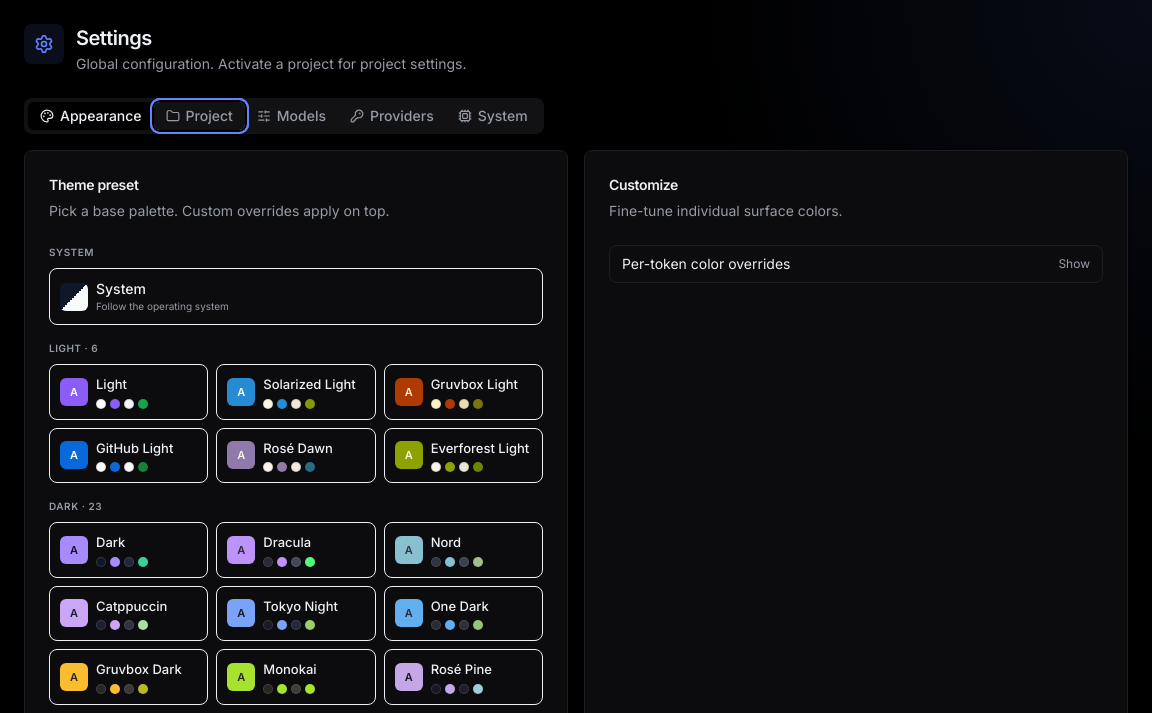
Test: Settings without an active project › shows an empty state on the Project tab with no project selected
This screenshot has width=1152, height=713.
Click the tab "Project" at (199, 116), box [154,102,245,130]
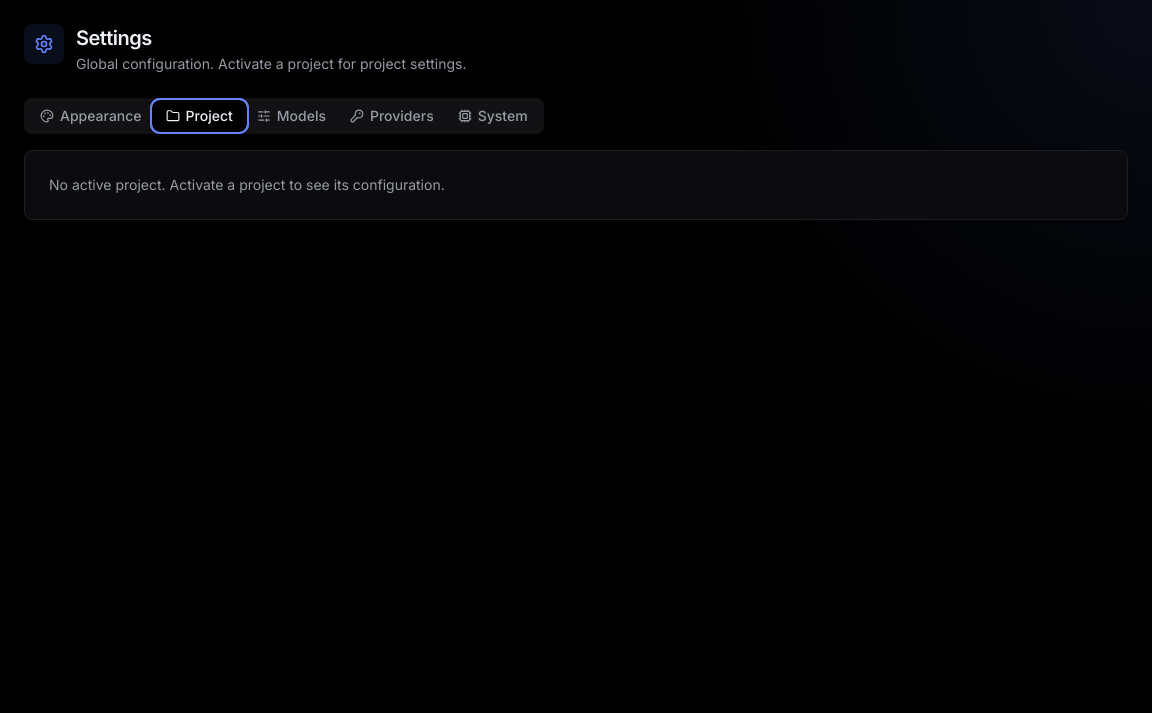
Now the text "No active project" is shown, box [49,176,445,193]
